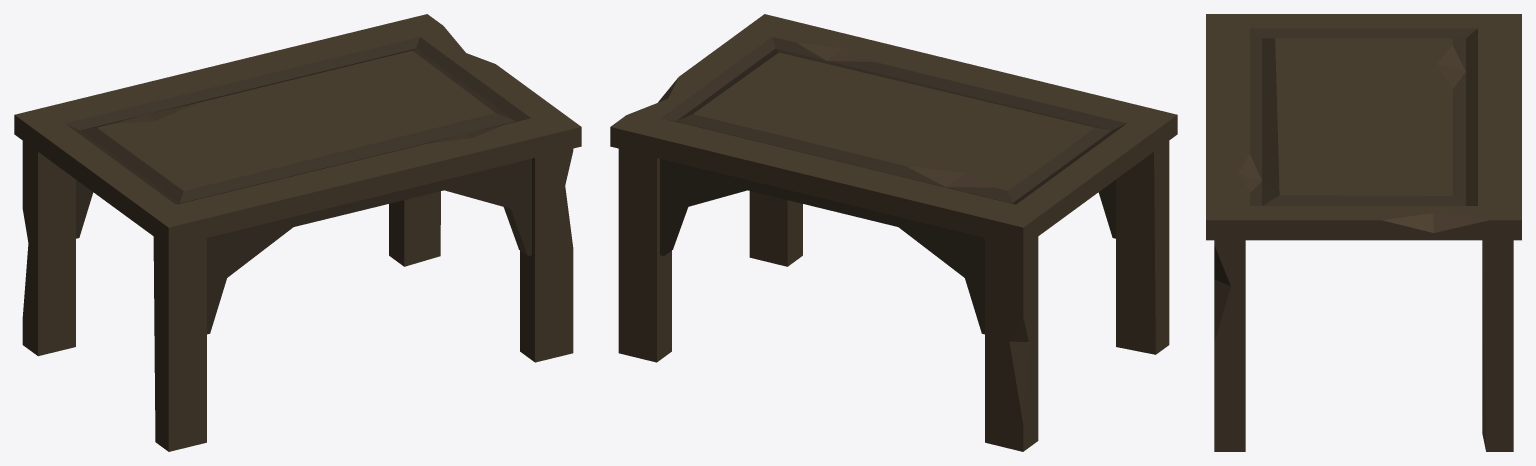
The model's file is SM_Prop_Bedside_Table_01.fbx.
The picture shows the model from 3 angles, left to right: view 1: azimuth 30°, elevation 25°; view 2: azimuth 150°, elevation 25°; view 3: azimuth 270°, elevation 25°; orthographic projection. The views are drawn at different scales.
Parts seen in each view (by area): view 1: SM_Prop_Bedside_Table_01; view 2: SM_Prop_Bedside_Table_01; view 3: SM_Prop_Bedside_Table_01.
Part boxes in pixels (x1,y1,x2,y2): SM_Prop_Bedside_Table_01: (14, 14, 581, 451); SM_Prop_Bedside_Table_01: (610, 14, 1177, 451); SM_Prop_Bedside_Table_01: (1206, 14, 1521, 451).
Bounding box in the file's own units: 124 × 65.28 × 79.9.
